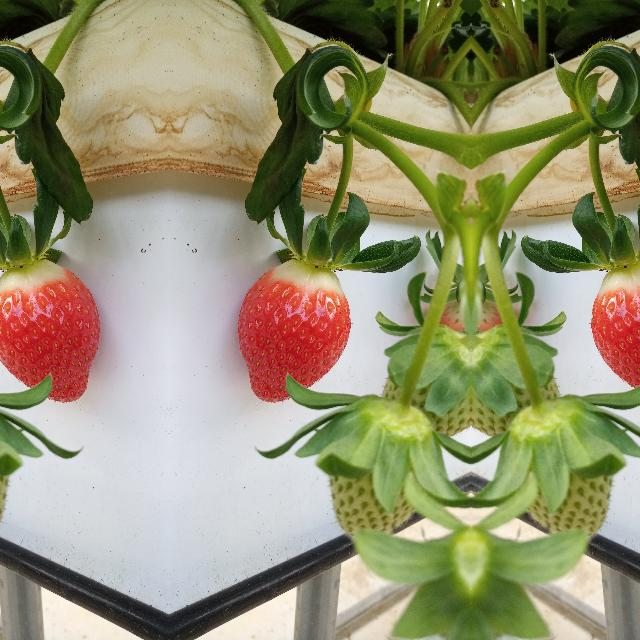Health_100: (235, 259, 351, 403), (0, 259, 101, 403), (590, 259, 640, 403)
Health_25: (318, 384, 438, 538), (503, 384, 622, 538)
